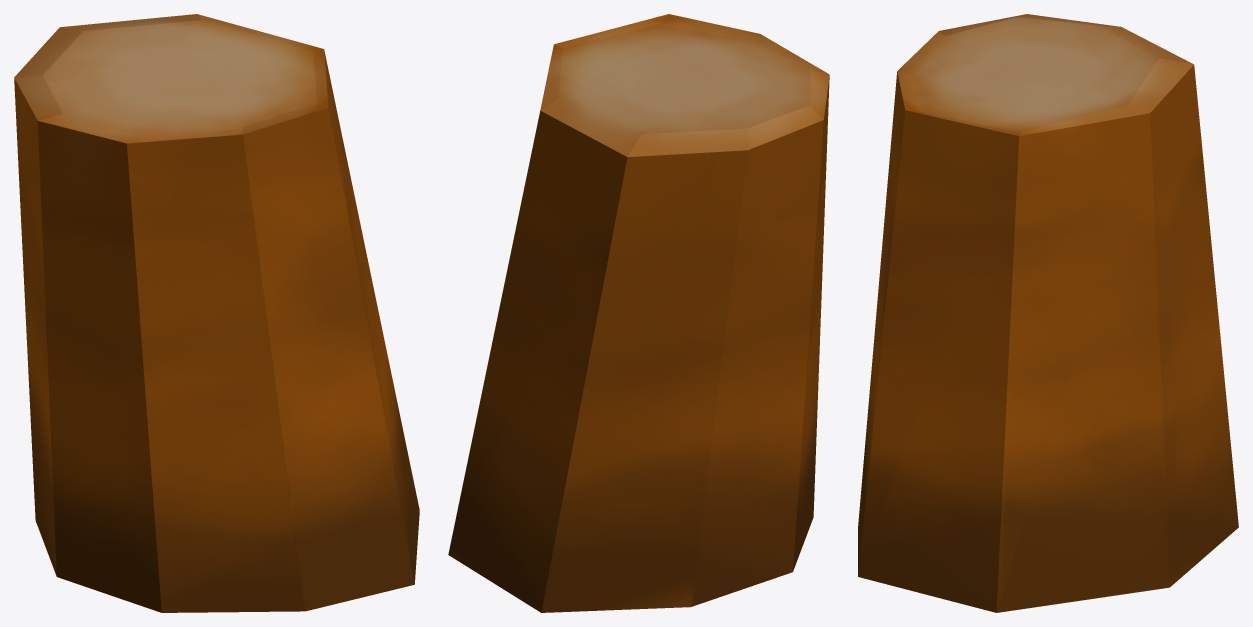
Rendered from Palm_04.fbx.
3 views of the same model, side by side, from view 1: azimuth 30°, elevation 25°; view 2: azimuth 150°, elevation 25°; view 3: azimuth 270°, elevation 25° (orthographic). The views are drawn at different scales.
Visible parts, largest first — view 1: Palm_04; view 2: Palm_04; view 3: Palm_04.
Part boxes in pixels (x1,y1,x2,y2): Palm_04: [14, 14, 419, 612]; Palm_04: [448, 14, 829, 612]; Palm_04: [858, 14, 1238, 612].
Bounding box in the file's own units: 37.34 × 46.47 × 36.3.
1 material, 1 textured.
